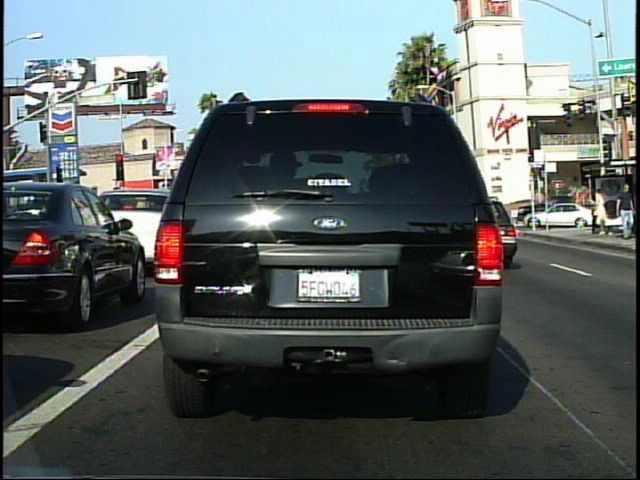person: (616, 180, 634, 243), (592, 183, 611, 240), (524, 201, 537, 226)
